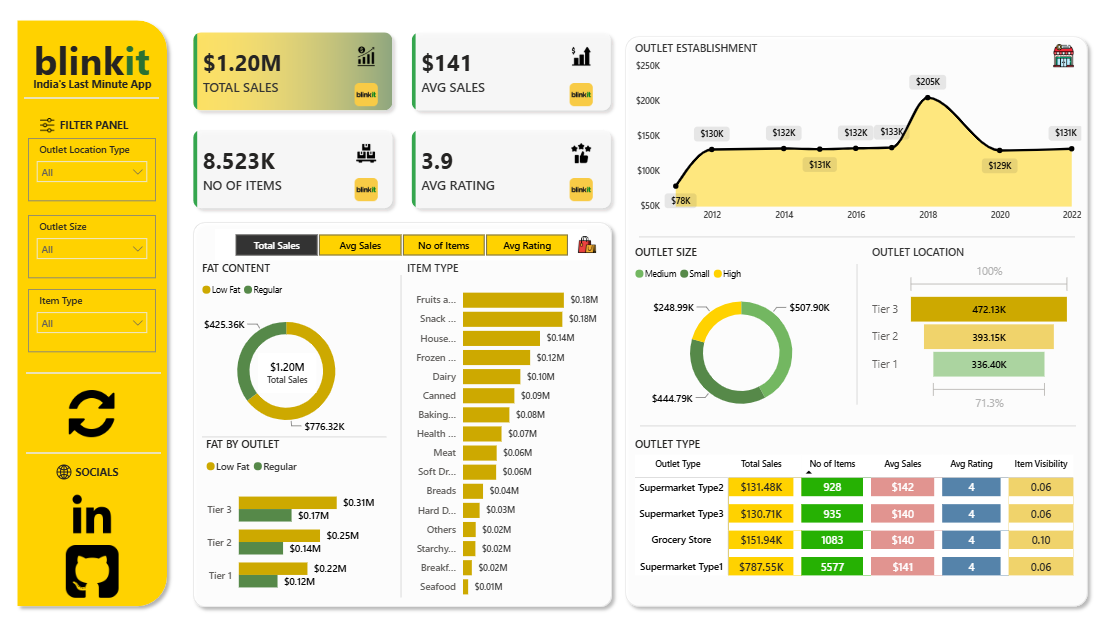

This screenshot's page, from the dashboard's own definition file:
{"tool":"powerbi","page":{"name":"Page 1","canvas":[1400,800],"ordinal":0},"visuals":[{"type":"shape","box":[12.7,25.3,205.2,750.6],"z":0},{"type":"textbox","box":[30.9,45,167.3,75.9],"z":1000},{"type":"textbox","box":[0,99.8,230.5,40.8],"z":2000},{"type":"cardVisual","fields":{"Data":["BlinkIT Grocery Data.Total Sales","BlinkIT Grocery Data.Avg Sales","BlinkIT Grocery Data.No of Items","BlinkIT Grocery Data.Avg Rating"]},"box":[217.9,25.3,570.7,269.9],"z":3000},{"type":"image","box":[431.5,57.6,52,42.2],"z":4000},{"type":"image","box":[700,57.6,52,42.2],"z":5000},{"type":"image","box":[431.5,178.5,52,42.2],"z":6000},{"type":"image","box":[700,178.5,52,42.2],"z":7000},{"type":"shape","box":[231.9,276.9,541.2,499],"z":8000},{"type":"donutChart","title":"FAT CONTENT","fields":{"Y":["BlinkIT Grocery Data.Total Sales"],"Category":["BlinkIT Grocery Data.Item Fat Content"]},"box":[247.4,334.5,220.7,230.5],"z":9000},{"type":"slicer","fields":{"Values":["Metrics.Metrics"]},"box":[268.5,295.2,465.3,39.4],"z":10000},{"type":"cardVisual","fields":{"Data":["BlinkIT Grocery Data.Total Sales"]},"box":[321.9,449.8,73.1,50.6],"z":11000},{"type":"clusteredBarChart","title":"FAT BY OUTLET","fields":{"Y":["BlinkIT Grocery Data.Total Sales"],"Category":["BlinkIT Grocery Data.Outlet Location Type"],"Series":["BlinkIT Grocery Data.Item Fat Content"]},"box":[252.5,555,220,211.2],"z":12000},{"type":"shape","box":[253,545.4,230.5,19.7],"z":13000},{"type":"shape","box":[483.5,352.8,35.1,403.4],"z":14000},{"type":"barChart","box":[799,25,571,270],"z":15000},{"type":"barChart","title":"ITEM TYPE","fields":{"Y":["BlinkIT Grocery Data.Total Sales"],"Category":["BlinkIT Grocery Data.Item Type"]},"box":[503.2,334.5,248.8,431.5],"z":16000},{"type":"shape","box":[773.1,45,596,730.9],"z":17000},{"type":"lineChart","title":"OUTLET ESTABLISHMENT","fields":{"Y":["BlinkIT Grocery Data.Total Sales"],"Category":["BlinkIT Grocery Data.Outlet Establishment Year"]},"box":[788.6,60.4,567.9,235],"z":18000},{"type":"shape","box":[798.4,295.2,545.4,19.7],"z":19000},{"type":"donutChart","title":"OUTLET SIZE","fields":{"Y":["BlinkIT Grocery Data.Total Sales"],"Category":["BlinkIT Grocery Data.Outlet Size"]},"box":[788.6,314.9,275.5,224.9],"z":20000},{"type":"shape","box":[1054.2,338.8,35.1,175.7],"z":21000},{"type":"funnel","title":"OUTLET LOCATION","fields":{"Y":["Sum(BlinkIT Grocery Data.Sales)"],"Category":["BlinkIT Grocery Data.Outlet Location Type"]},"box":[1085.1,314.9,258.6,212.2],"z":22000},{"type":"shape","box":[799.8,531.3,545.4,19.7],"z":23000},{"type":"pivotTable","title":"OUTLET TYPE","fields":{"Rows":["BlinkIT Grocery Data.Outlet Type"],"Values":["BlinkIT Grocery Data.Total Sales","BlinkIT Grocery Data.No of Items","BlinkIT Grocery Data.Avg Sales","BlinkIT Grocery Data.Avg Rating","Avg(BlinkIT Grocery Data.Item Visibility)"]},"box":[788.6,555.2,567.9,201],"z":24000},{"type":"slicer","fields":{"Values":["BlinkIT Grocery Data.Outlet Location Type"]},"box":[35,181.2,160,78.8],"z":25000},{"type":"slicer","fields":{"Values":["BlinkIT Grocery Data.Outlet Size"]},"box":[35,277.5,160,78.8],"z":26000},{"type":"slicer","fields":{"Values":["BlinkIT Grocery Data.Item Type"]},"box":[35,370,160,78.8],"z":27000},{"type":"textbox","box":[2.5,151.2,230,27.5],"z":28000},{"type":"image","box":[30,156.2,57.5,17.5],"z":29000},{"type":"shape","box":[30,121.2,168.8,20],"z":30000},{"type":"image","box":[436.2,112.5,42.5,28.8],"z":31000},{"type":"image","box":[436.2,231.2,42.5,28.8],"z":32000},{"type":"image","box":[705,112.5,42.5,28.8],"z":33000},{"type":"image","box":[705,231.2,42.5,28.8],"z":34000},{"type":"image","box":[710,302.5,47.5,23.8],"z":35000},{"type":"image","box":[1302.5,63.8,53.8,28.8],"z":36000},{"type":"image","box":[73.8,621.2,81.2,60],"z":37000},{"type":"image","box":[71.2,690,87.5,66.2],"z":38000},{"type":"shape","box":[32.5,465,168.8,20],"z":39000},{"type":"textbox","box":[6.2,585,230,27.5],"z":40000},{"type":"shape","box":[32.5,565,168.8,20],"z":41000},{"type":"image","box":[30,588.8,100,20],"z":42000},{"type":"image","box":[75,496.2,78.8,58.8],"z":43000}]}

Visuals, with their boxes in screenshot pixels (x1, y1, x2, y2), scaled from the page's 1400x800 canvas onto the 1113x631 screenshot:
shape: [10, 20, 173, 612]
textbox: [25, 35, 158, 95]
textbox: [0, 79, 183, 111]
cardVisual - BlinkIT Grocery Data.Total Sales x BlinkIT Grocery Data.Avg Sales: [173, 20, 627, 233]
image: [343, 45, 384, 79]
image: [556, 45, 598, 79]
image: [343, 141, 384, 174]
image: [556, 141, 598, 174]
shape: [184, 218, 615, 612]
"FAT CONTENT" donutChart: [197, 264, 372, 446]
slicer - Metrics.Metrics: [213, 233, 583, 264]
cardVisual - BlinkIT Grocery Data.Total Sales: [256, 355, 314, 395]
"FAT BY OUTLET" clusteredBarChart: [201, 438, 376, 604]
shape: [201, 430, 384, 446]
shape: [384, 278, 412, 596]
barChart: [635, 20, 1089, 233]
"ITEM TYPE" barChart: [400, 264, 598, 604]
shape: [615, 35, 1088, 612]
"OUTLET ESTABLISHMENT" lineChart: [627, 48, 1078, 233]
shape: [635, 233, 1068, 248]
"OUTLET SIZE" donutChart: [627, 248, 846, 426]
shape: [838, 267, 866, 406]
"OUTLET LOCATION" funnel: [863, 248, 1068, 416]
shape: [636, 419, 1069, 435]
"OUTLET TYPE" pivotTable: [627, 438, 1078, 596]
slicer - BlinkIT Grocery Data.Outlet Location Type: [28, 143, 155, 205]
slicer - BlinkIT Grocery Data.Outlet Size: [28, 219, 155, 281]
slicer - BlinkIT Grocery Data.Item Type: [28, 292, 155, 354]
textbox: [2, 119, 185, 141]
image: [24, 123, 70, 137]
shape: [24, 96, 158, 111]
image: [347, 89, 381, 111]
image: [347, 182, 381, 205]
image: [560, 89, 594, 111]
image: [560, 182, 594, 205]
image: [564, 239, 602, 257]
image: [1035, 50, 1078, 73]
image: [59, 490, 123, 537]
image: [57, 544, 126, 596]
shape: [26, 367, 160, 383]
textbox: [5, 461, 188, 483]
shape: [26, 446, 160, 461]
image: [24, 464, 103, 480]
image: [60, 391, 122, 438]
